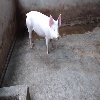heo: (24, 9, 63, 55)
